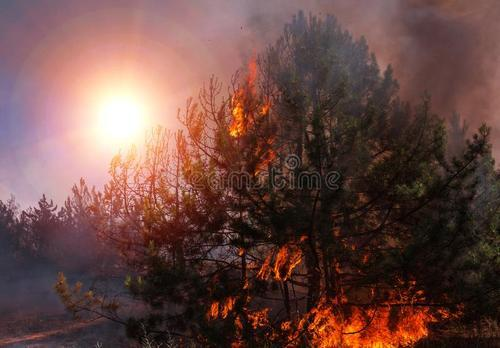fire: (305, 295, 439, 346), (231, 69, 275, 168)
smoke: (356, 5, 500, 132), (7, 222, 115, 320)
